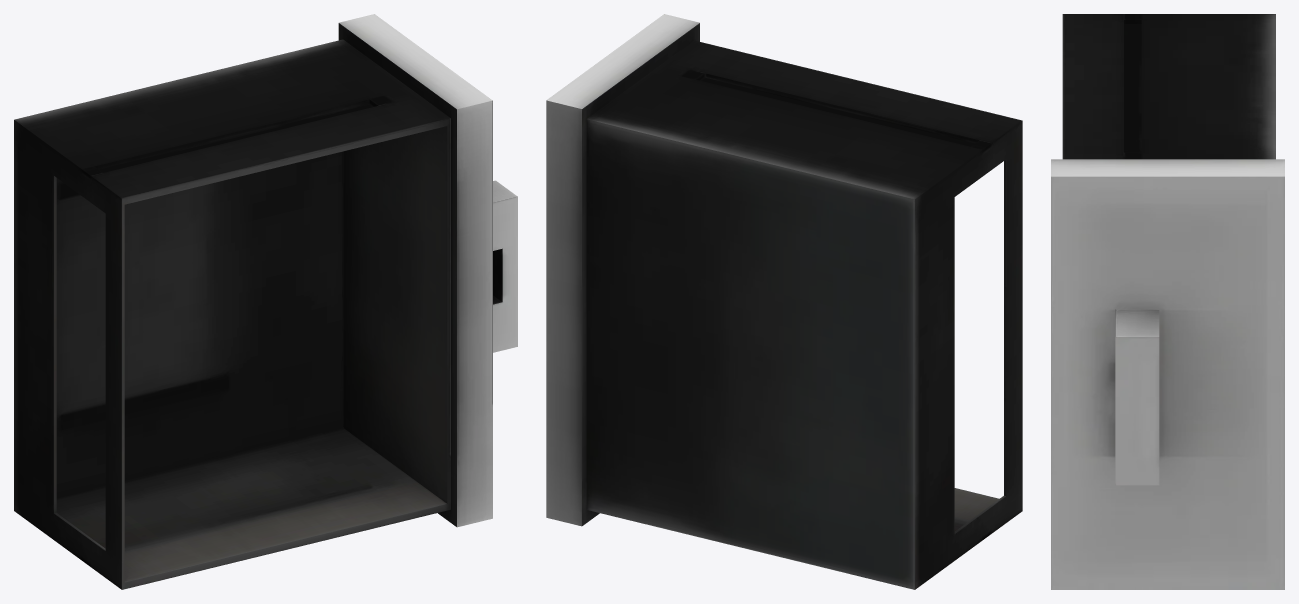
Rendered from drawer__drawer_shell.glb.
3 views of the same model, side by side, from view 1: azimuth 30°, elevation 25°; view 2: azimuth 150°, elevation 25°; view 3: azimuth 270°, elevation 25° (orthographic).
Parts seen in each view (by area): view 1: geometry_0; view 2: geometry_0; view 3: geometry_0.
Part boxes in pixels (x1,y1,x2,y2): geometry_0: [14, 14, 517, 589]; geometry_0: [546, 14, 1022, 589]; geometry_0: [1051, 14, 1284, 589].
Size of the model in its own units: 0.33 by 0.312 by 0.16.
Materials: 1 (1 with a texture image).
